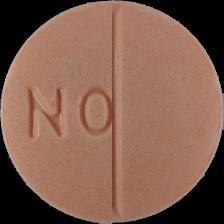16714-042: (0, 0, 224, 224)
